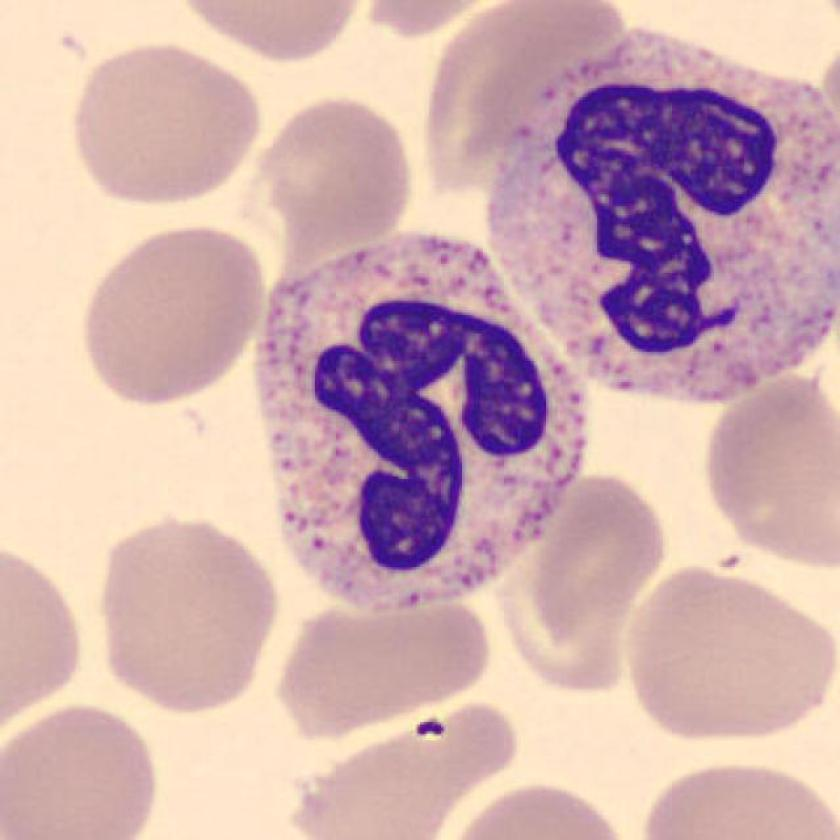neutrophil: (486, 27, 840, 403), (244, 239, 588, 610)
